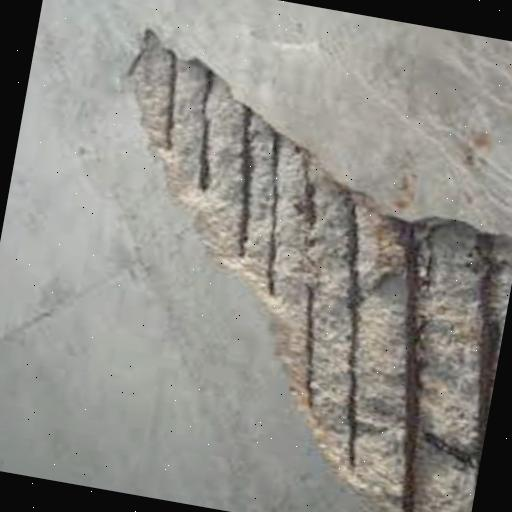spalling: (117, 23, 512, 512)
